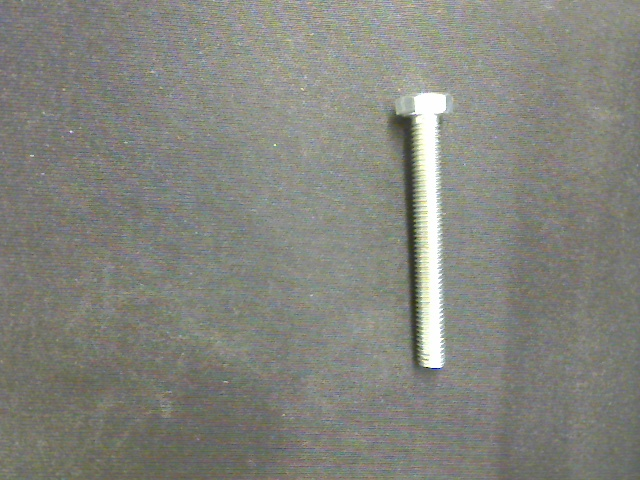screw: (394, 92, 451, 369)
